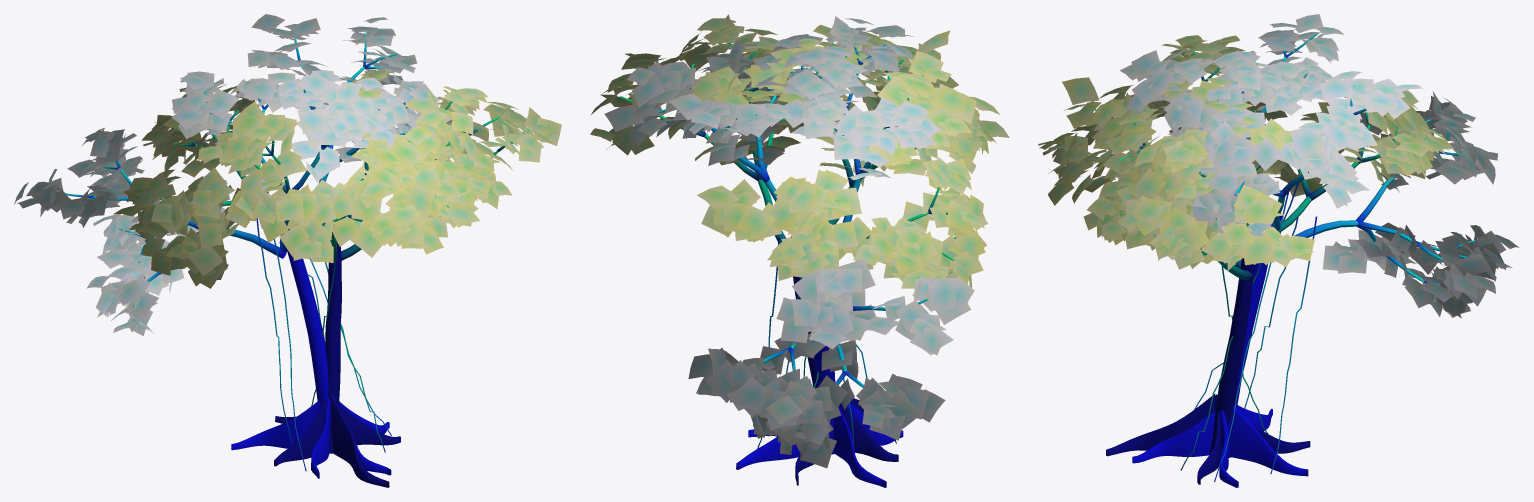
File: buttress.glb
3 views of the same model, side by side, from view 1: azimuth 30°, elevation 25°; view 2: azimuth 150°, elevation 25°; view 3: azimuth 270°, elevation 25° (orthographic). The views are drawn at different scales.
Visible parts, largest first — view 1: buttress0_lod0, buttress1_lod0; view 2: buttress1_lod0, buttress0_lod0; view 3: buttress1_lod0, buttress0_lod0.
Part boxes in pixels (x1=…): buttress0_lod0: x1=113, y1=70, x2=561, y2=487; buttress1_lod0: x1=14, y1=14, x2=465, y2=478; buttress1_lod0: x1=604, y1=16, x2=974, y2=487; buttress0_lod0: x1=590, y1=14, x2=1009, y2=485; buttress1_lod0: x1=1119, y1=14, x2=1518, y2=487; buttress0_lod0: x1=1038, y1=35, x2=1453, y2=484.
Size of what is drawn, in the model's own units: 28.09 by 24.08 by 26.27.
